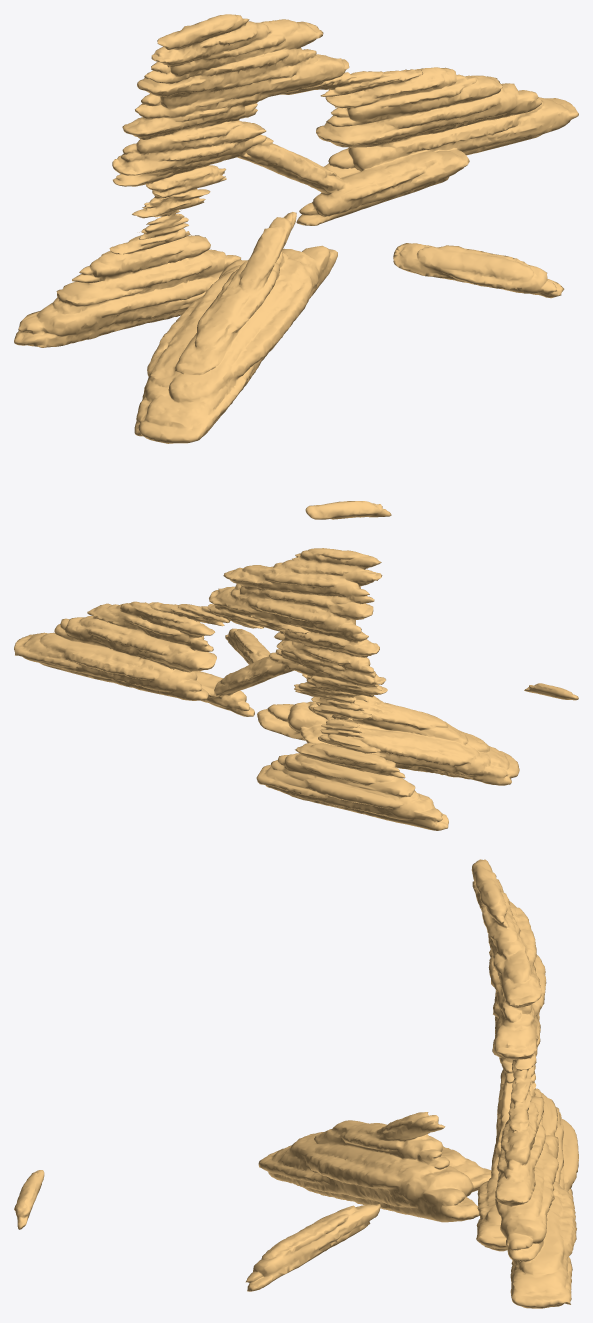
File: Rockform_high.fbx
3 views of the same model, one above another, from view 1: azimuth 30°, elevation 25°; view 2: azimuth 150°, elevation 25°; view 3: azimuth 270°, elevation 25° (orthographic). The views are drawn at different scales.
Visible parts, largest first — view 1: Rockform_high; view 2: Rockform_high; view 3: Rockform_high.
Part boxes in pixels (bbox=[...]): Rockform_high: bbox=[14, 14, 578, 519]; Rockform_high: bbox=[14, 548, 578, 830]; Rockform_high: bbox=[14, 859, 578, 1308].
Size of the model in its own units: 3.28 by 1.87 by 2.63.
